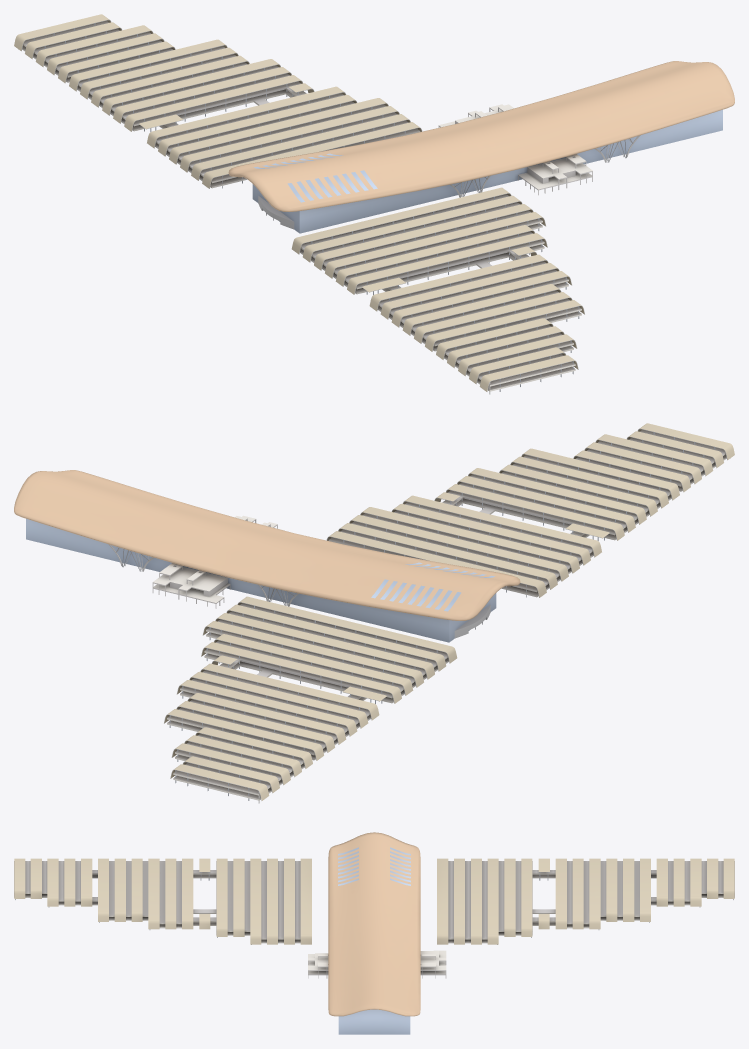
Rendered from kingabdulazizrailwaystation.glb.
3 views of the same model, one above another, from view 1: azimuth 30°, elevation 25°; view 2: azimuth 150°, elevation 25°; view 3: azimuth 270°, elevation 25° (orthographic). The views are drawn at different scales.
Visible parts, largest first — view 1: kingabdulazizrailwaystation; view 2: kingabdulazizrailwaystation; view 3: kingabdulazizrailwaystation.
Boxes of the visible parts, x1=… form: kingabdulazizrailwaystation: x1=14, y1=14, x2=734, y2=394; kingabdulazizrailwaystation: x1=14, y1=423, x2=734, y2=803; kingabdulazizrailwaystation: x1=14, y1=832, x2=734, y2=1034.
Size of the model in its own units: 489 by 45.14 by 853.
1 material, 1 textured.
